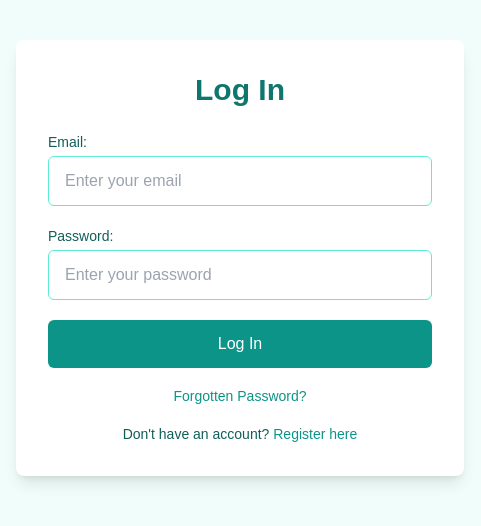
Test: LogIn Component › shows validation errors for empty fields
This screenshot has width=481, height=526.
Click the button "Log In".
click(240, 344)  # box x1=48 y1=320 x2=432 y2=368
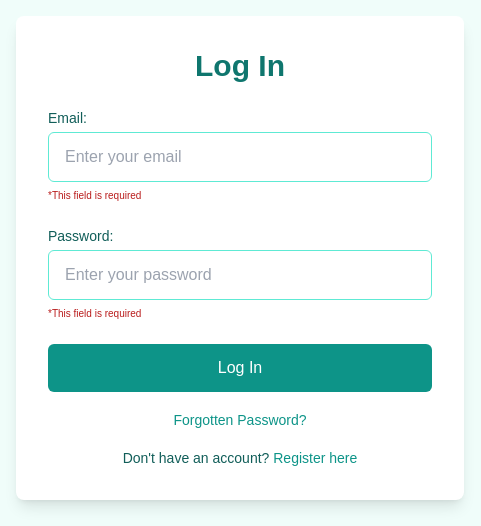
Expected: the text "*This field is required" is shown 2 times, x1=48 y1=188 x2=141 y2=203; x1=48 y1=306 x2=141 y2=321
